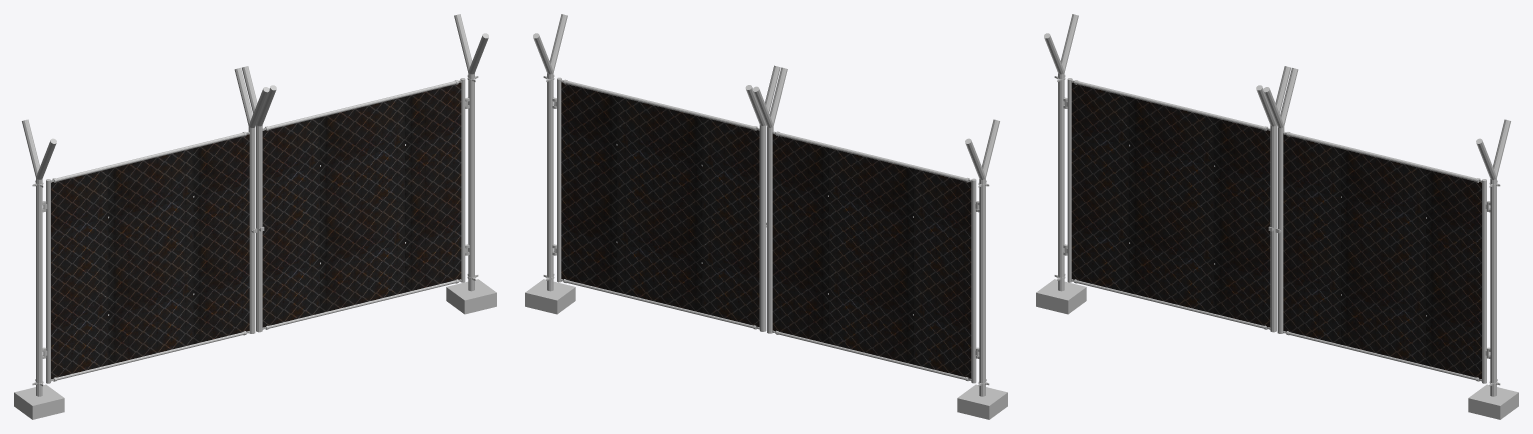
File: SM_Metal_Gate.fbx
The picture shows the model from 3 angles, left to right: view 1: azimuth 30°, elevation 25°; view 2: azimuth 150°, elevation 25°; view 3: azimuth 330°, elevation 25°; orthographic projection.
Visible parts, largest first — view 1: SM_Metal_Collar_01, SM_Metal_Collar_02, SM_Metal_Gate; view 2: SM_Metal_Collar_01, SM_Metal_Collar_02, SM_Metal_Gate; view 3: SM_Metal_Collar_02, SM_Metal_Collar_01, SM_Metal_Gate.
Part boxes in pixels (x1,y1,x2,y2): SM_Metal_Collar_01: [43, 68, 269, 383]; SM_Metal_Collar_02: [242, 66, 468, 332]; SM_Metal_Gate: [14, 14, 496, 419]; SM_Metal_Collar_01: [752, 67, 979, 383]; SM_Metal_Collar_02: [554, 65, 780, 331]; SM_Metal_Gate: [525, 14, 1007, 419]; SM_Metal_Collar_02: [1263, 68, 1489, 383]; SM_Metal_Collar_01: [1064, 66, 1290, 332]; SM_Metal_Gate: [1036, 14, 1518, 419].
Bounding box in the file's own units: 645 × 371 × 76.58.
